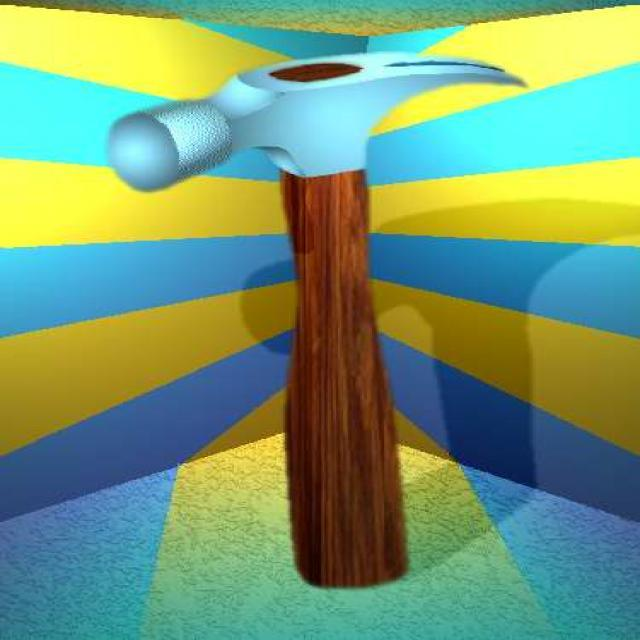hammer: (100, 44, 546, 599)
